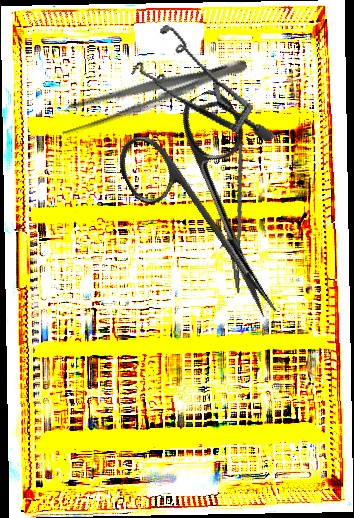Dressing Forceps: (54, 48, 252, 140)
Iris Scissors: (106, 83, 330, 345)
Needle Holder: (208, 138, 259, 295)
Speculum: (120, 2, 277, 177)
